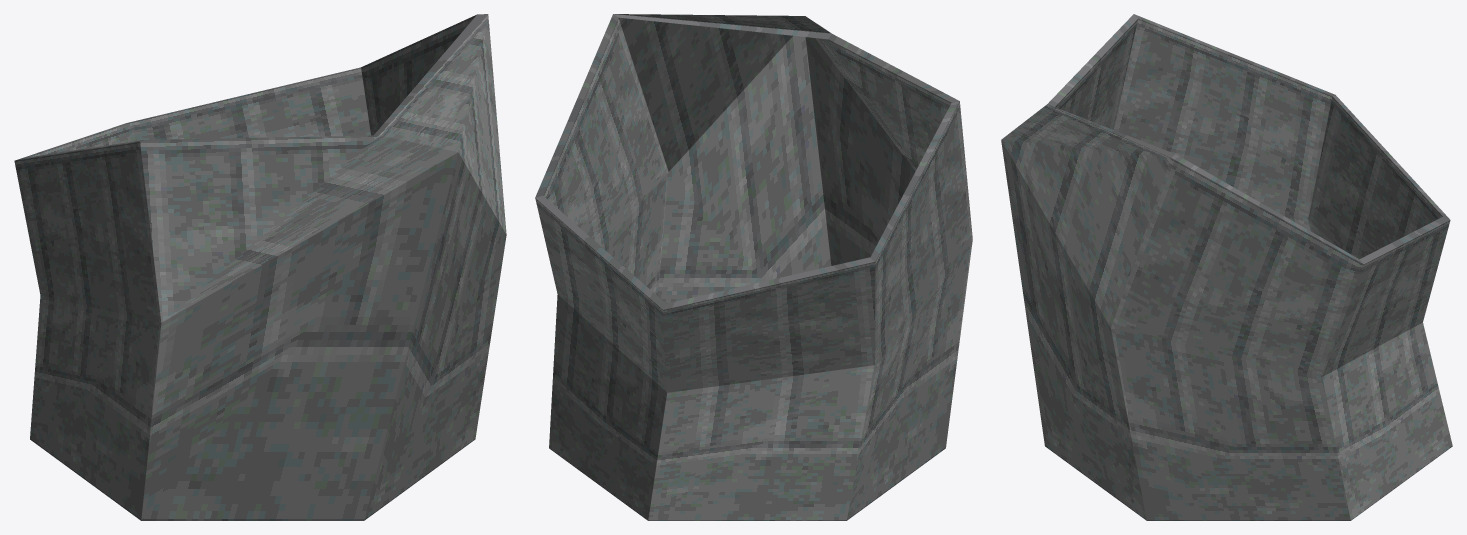
The model's file is metaltrashcan_beaten_alt.glb.
3 renders of one model, left to right at view 1: azimuth 30°, elevation 25°; view 2: azimuth 150°, elevation 25°; view 3: azimuth 270°, elevation 25°, orthographic. The views are drawn at different scales.
Parts seen in each view (by area): view 1: metaltrashcan_beaten_alt; view 2: metaltrashcan_beaten_alt; view 3: metaltrashcan_beaten_alt.
Boxes of the visible parts, bbox=[...] form: metaltrashcan_beaten_alt: bbox=[14, 14, 506, 520]; metaltrashcan_beaten_alt: bbox=[535, 14, 972, 520]; metaltrashcan_beaten_alt: bbox=[1001, 14, 1452, 520].
Size of the model in its own units: 0.7592 by 0.7729 by 0.8444.
1 material, 1 textured.
